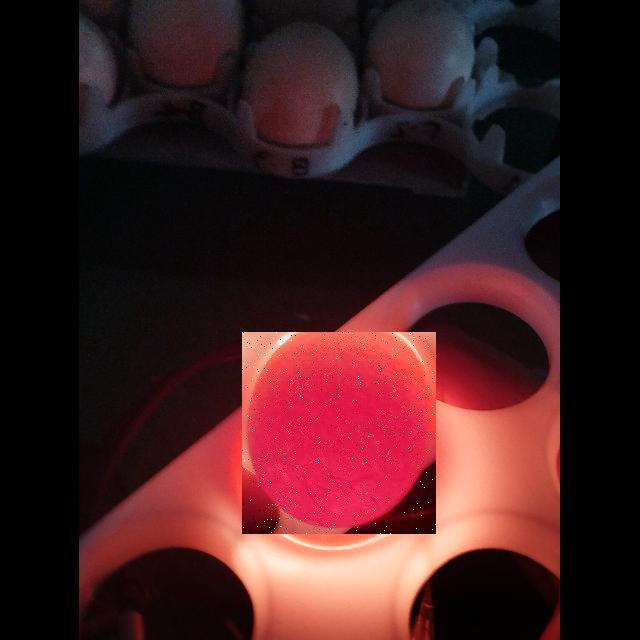Infertile: (242, 332, 436, 534)
